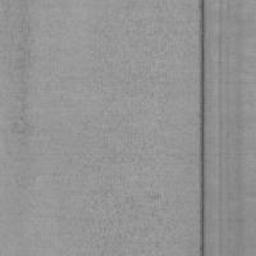Welding line: (197, 0, 207, 256)
